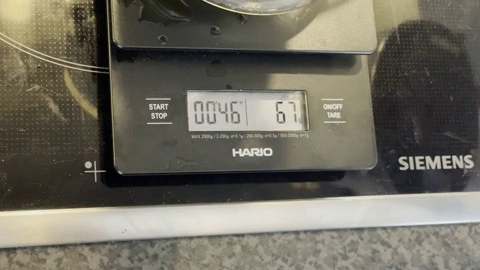display: (187, 90, 306, 131)
